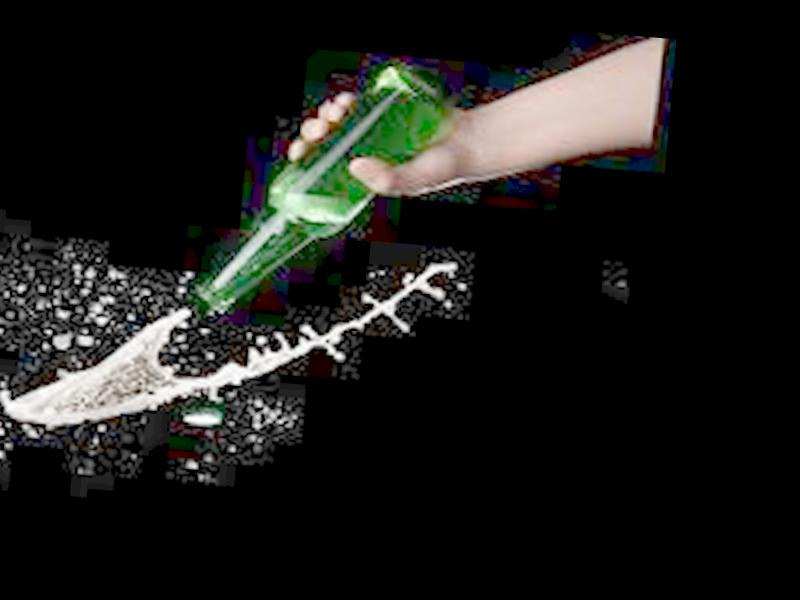Beer: (197, 46, 457, 327)
